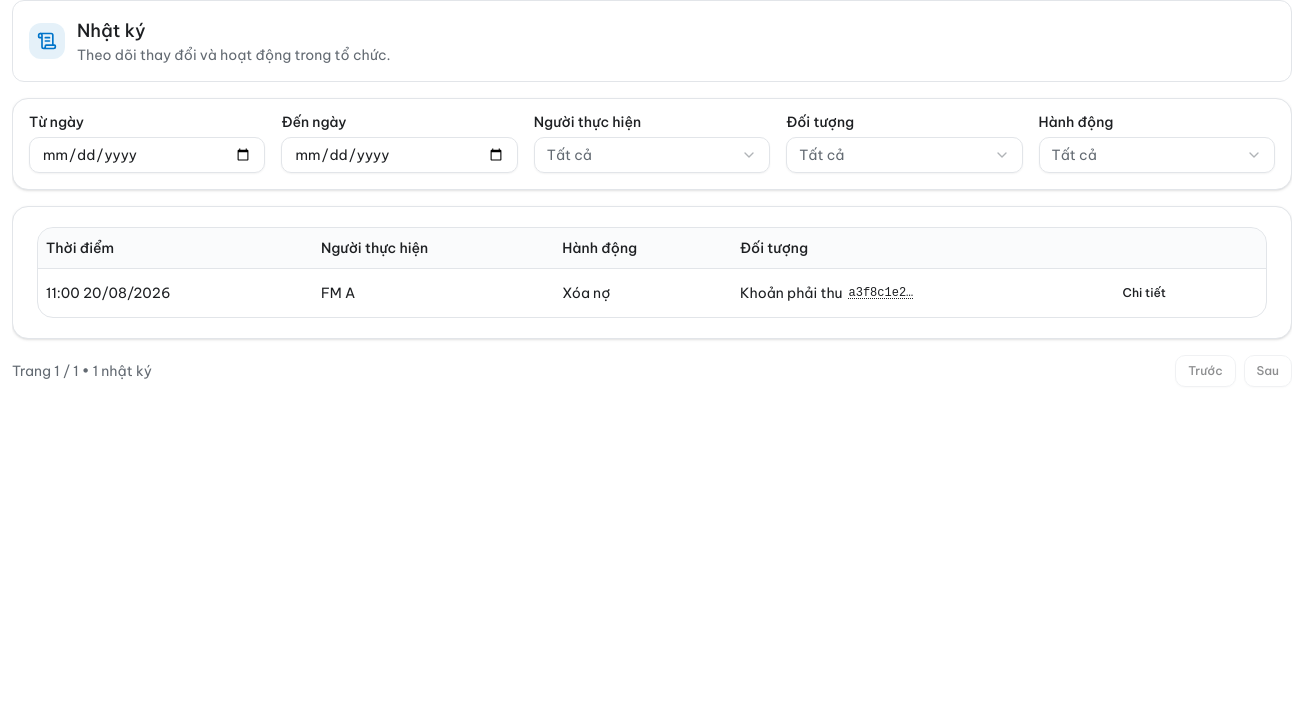
Test: AuditLogTab › formats a known money field as VND in the expanded detail
Click the button "Chi tiết".
click(1144, 292)  # box x1=1111 y1=276 x2=1178 y2=308
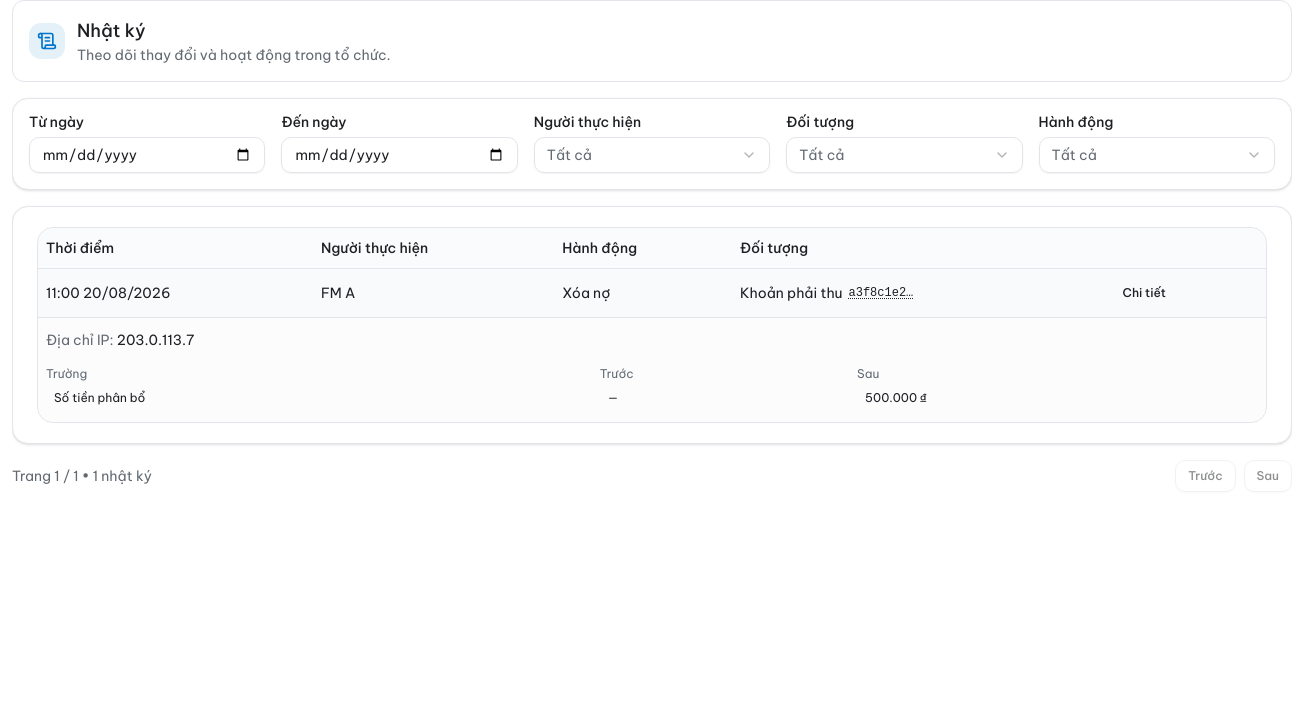
expect the text "500.000 ₫" is shown: met, box x1=857 y1=386 x2=1258 y2=410
